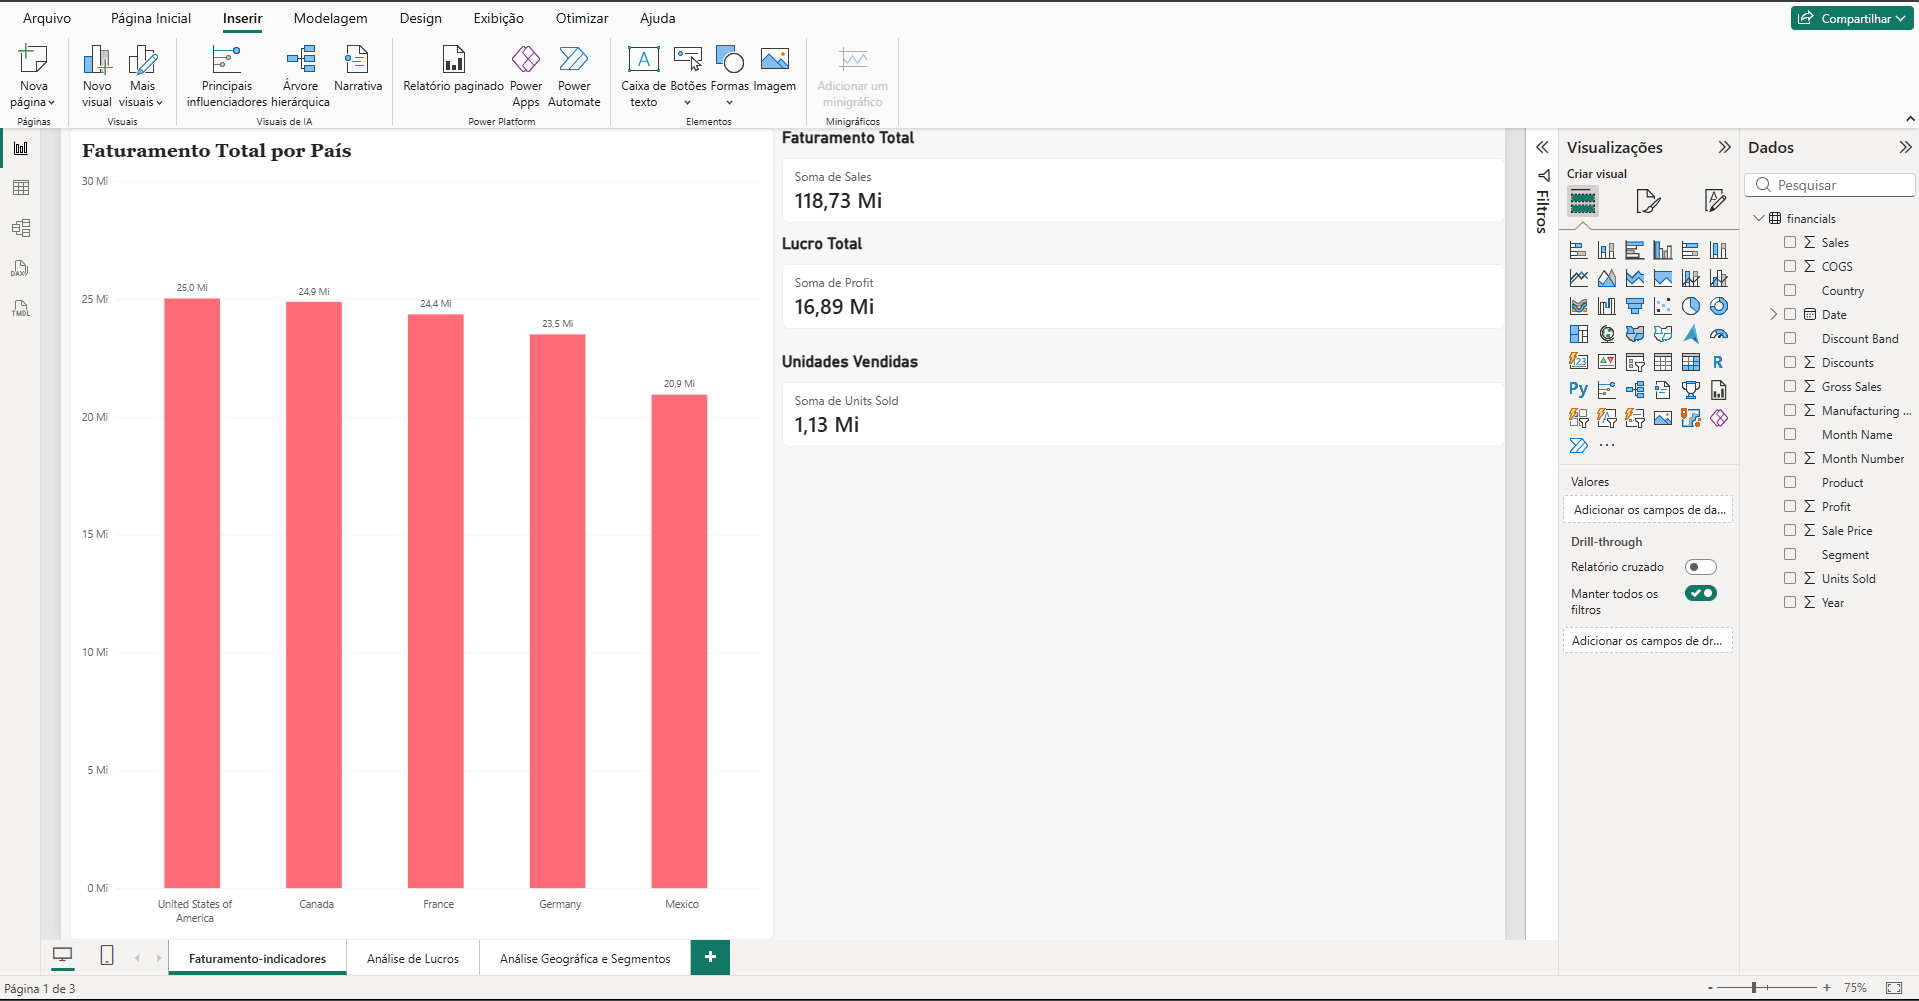

The dashboard page shown, as its layout file describes it:
{"tool":"powerbi","page":{"name":"Página 1","canvas":[1920,1080],"ordinal":0},"visuals":[{"type":"clusteredColumnChart","title":"Faturamento Total por País","fields":{"Category":["financials.Country"],"Y":["Sum(financials. Sales)"]},"box":[10.6,0,937.7,1080],"z":0},{"type":"cardVisual","title":"Faturamento Total","fields":{"Data":["Sum(financials. Sales)"]},"box":[959,0,961.6,126.4],"z":1000},{"type":"cardVisual","title":"Lucro Total","fields":{"Data":["Sum(financials.Profit)"]},"box":[959,141,961.6,126.4],"z":2000},{"type":"cardVisual","title":"Unidades Vendidas","fields":{"Data":["Sum(financials.Units Sold)"]},"box":[959,297.9,961.6,126.4],"z":3000}]}

Visuals, with their boxes on the page's 1920x1080 design canvas (x1, y1, x2, y2). These are canvas units, not pixel positions in the 1919x1001 screenshot, which may show the page scaled, cropped or inside an application window:
"Faturamento Total por País" clusteredColumnChart: 11, 0, 948, 1080
"Faturamento Total" cardVisual: 959, 0, 1921, 126
"Lucro Total" cardVisual: 959, 141, 1921, 267
"Unidades Vendidas" cardVisual: 959, 298, 1921, 424
